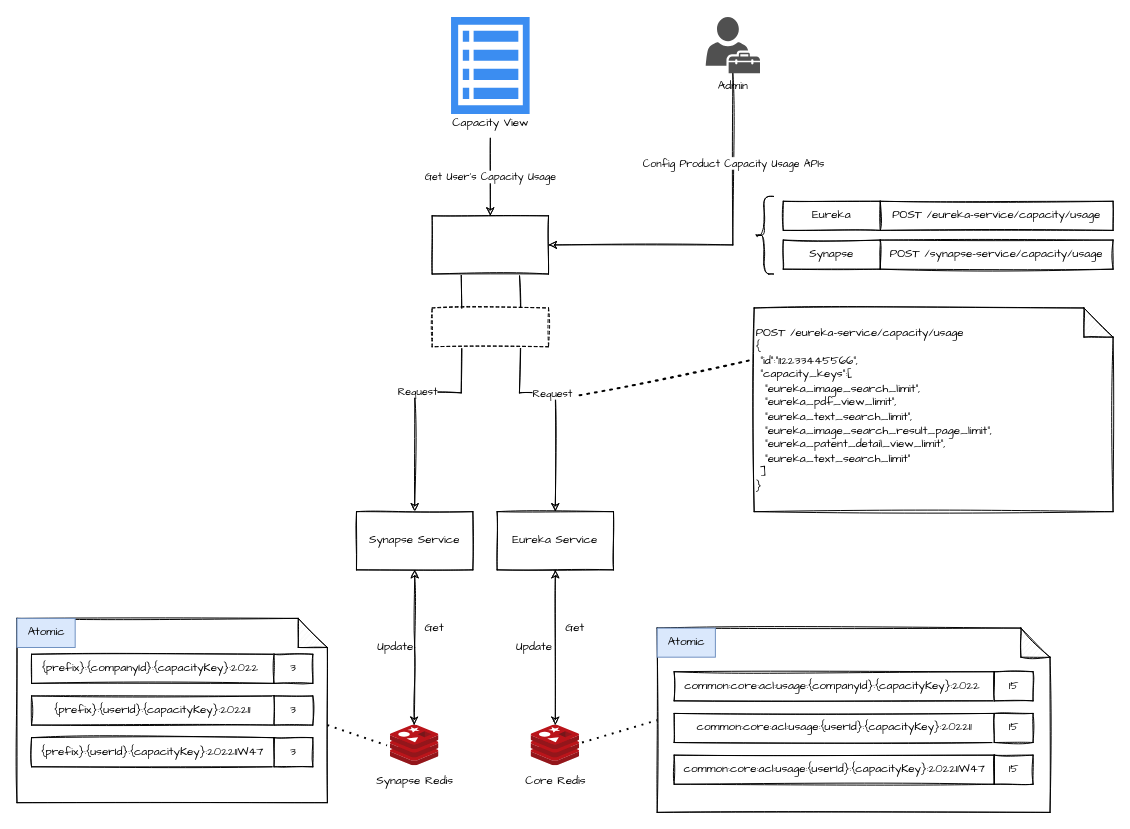
Some shapes in this 1130 by 829 pixel diagram are drawn without their labels. The shapes that lost their labels are listed below. From the top down, each one's centre as x and y in pixels, then its label:
At [490,244]: "Backoffice Service".
At [490,327]: "Cache Layer".
